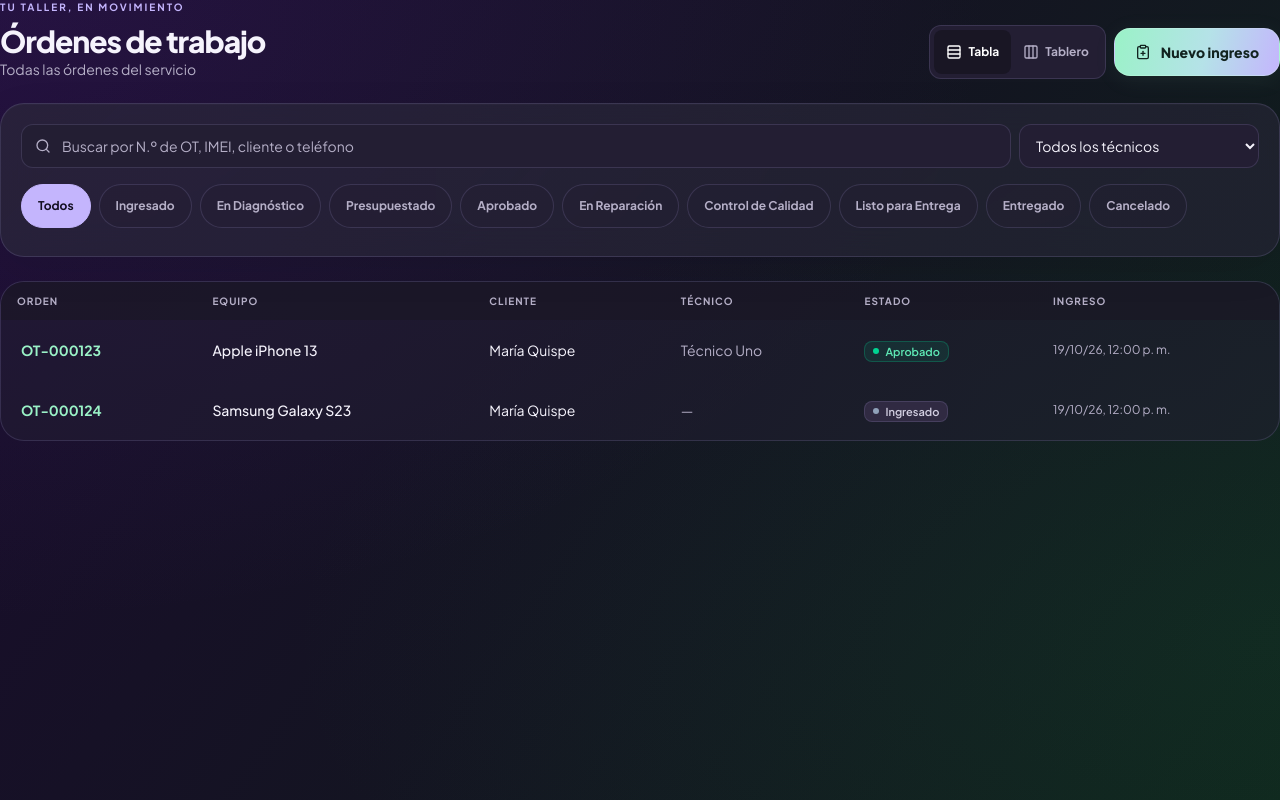
WorkOrdersPage (US-F02) › lists orders in a table and filters by status [003/RF-1.1] [003/RF-1.2] [003/RF-2.1]
expect the text "Todas las órdenes del servicio" is shown: met, box [0,60,196,78]
expect the text "Samsung Galaxy S23" is shown: met, box [196,380,473,440]
Click the radio button labelled "Cancelado" at (1138,206), box [1089,184,1187,228]
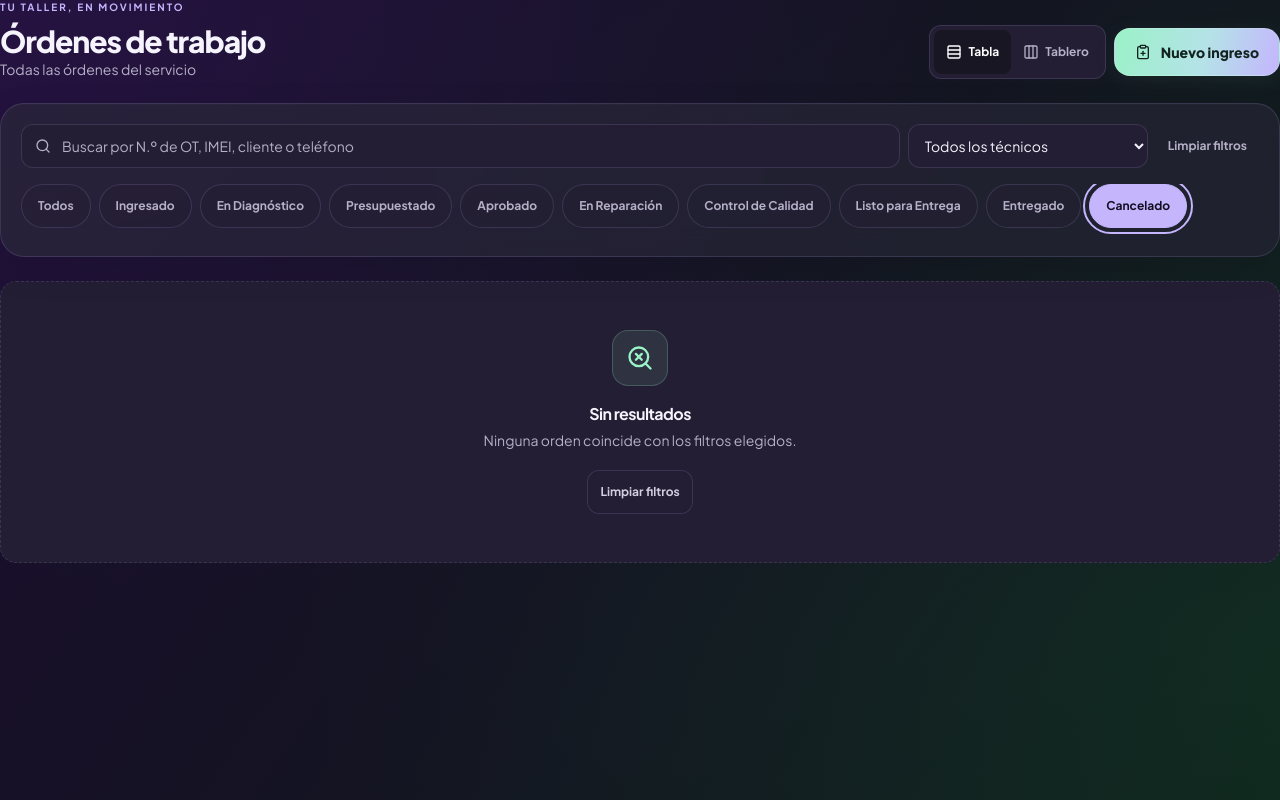
expect the text "Ninguna orden coincide con los filtros elegidos." is shown: met, box [484,430,796,450]
